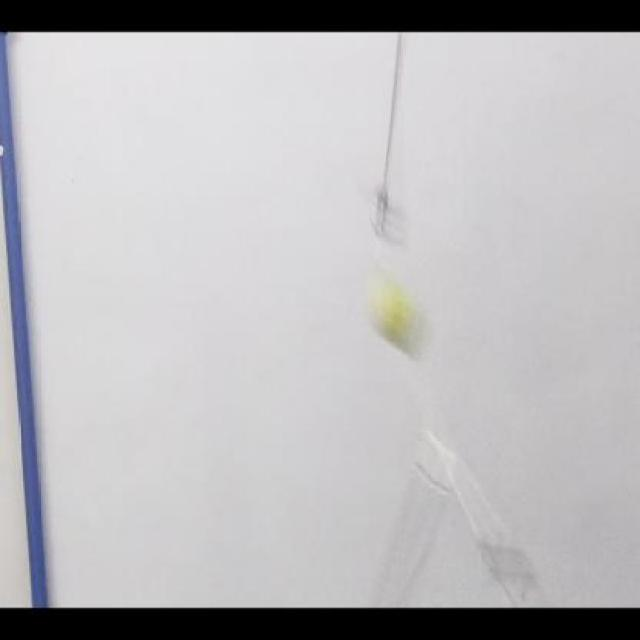baseball: (367, 272, 433, 363)
